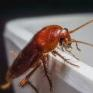cockroach: (6, 25, 70, 81)
